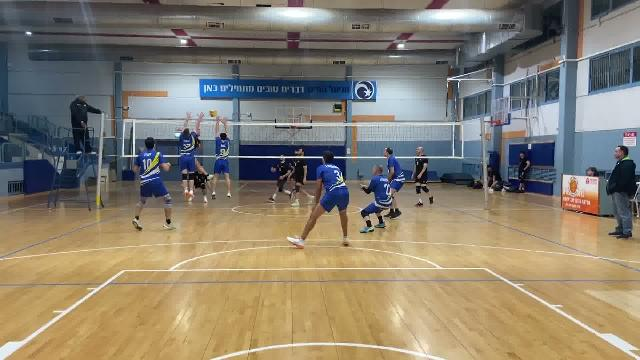ball: (209, 107, 218, 118)
